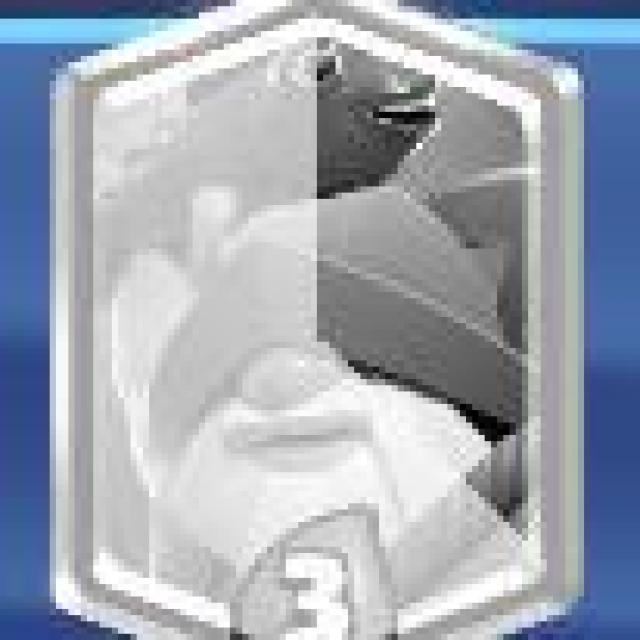Fisherman: (59, 0, 586, 640)
